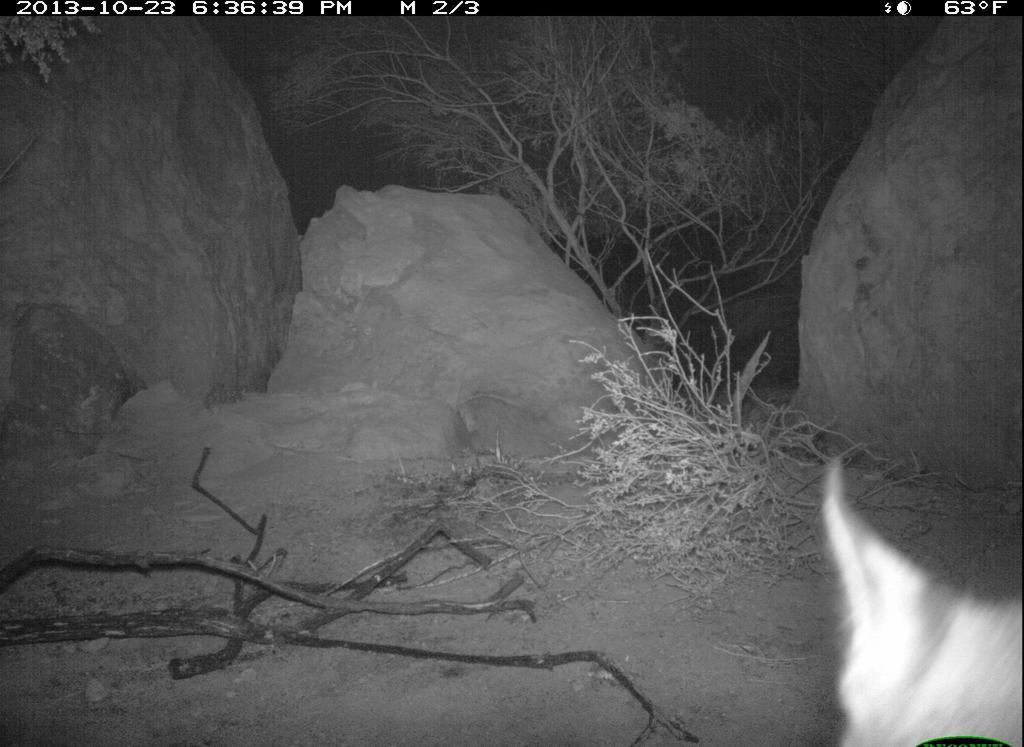bobcat: (811, 455, 1023, 747)
